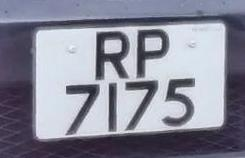1: (100, 80, 127, 137)
5: (159, 75, 203, 131)
7: (58, 78, 103, 141), (121, 78, 161, 135)
P: (131, 21, 178, 83)
R: (80, 23, 136, 84)
